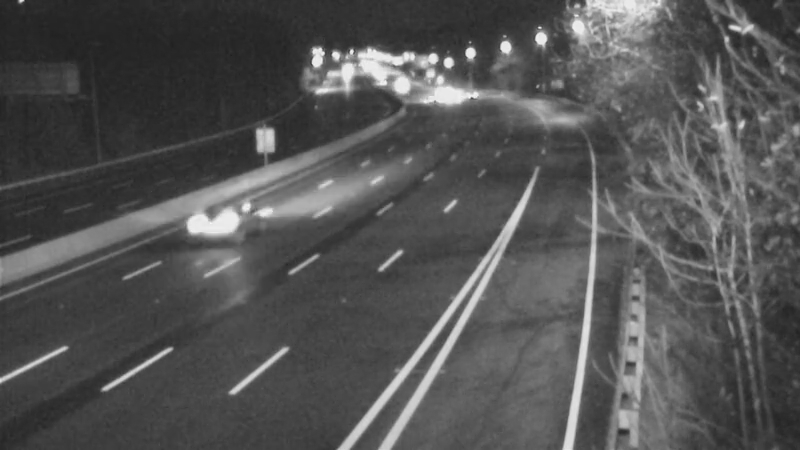vehicle: (183, 187, 263, 267), (375, 58, 425, 108), (421, 72, 471, 122), (438, 67, 488, 117), (402, 72, 452, 122)
